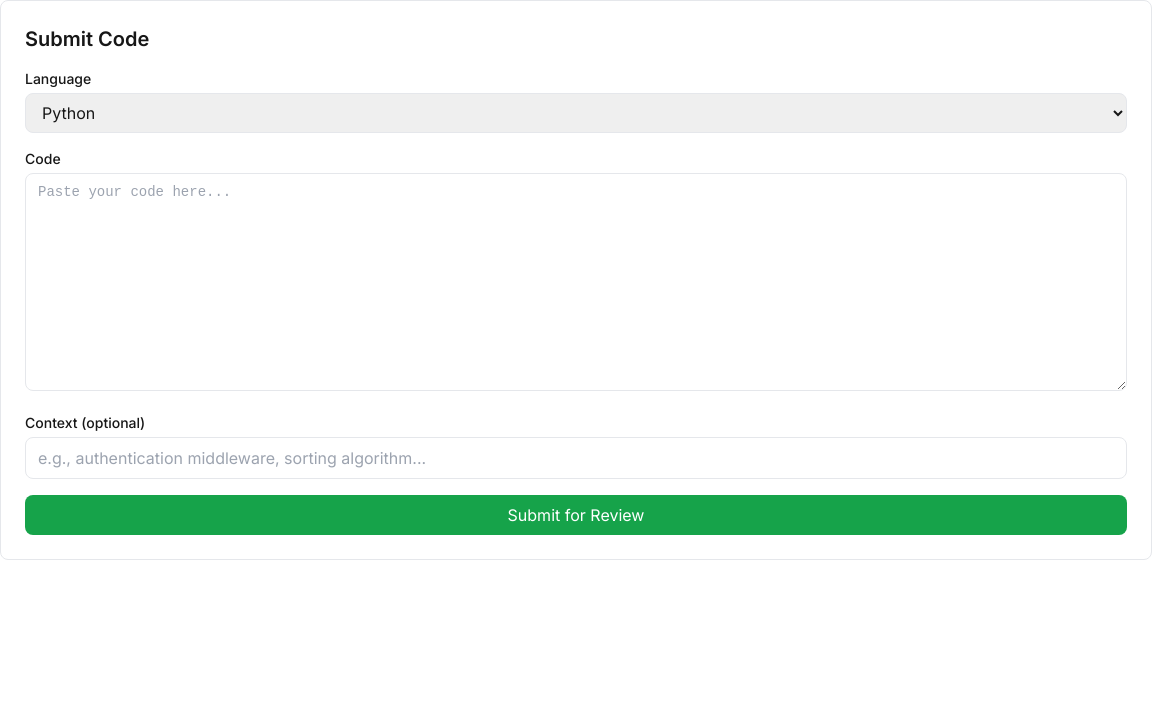
Test: SubmissionForm › shows typed error on failure
This screenshot has width=1152, height=720.
In the text box with placeholder "Paste your code here...": (576, 282) [25, 173, 1127, 391], type "x"
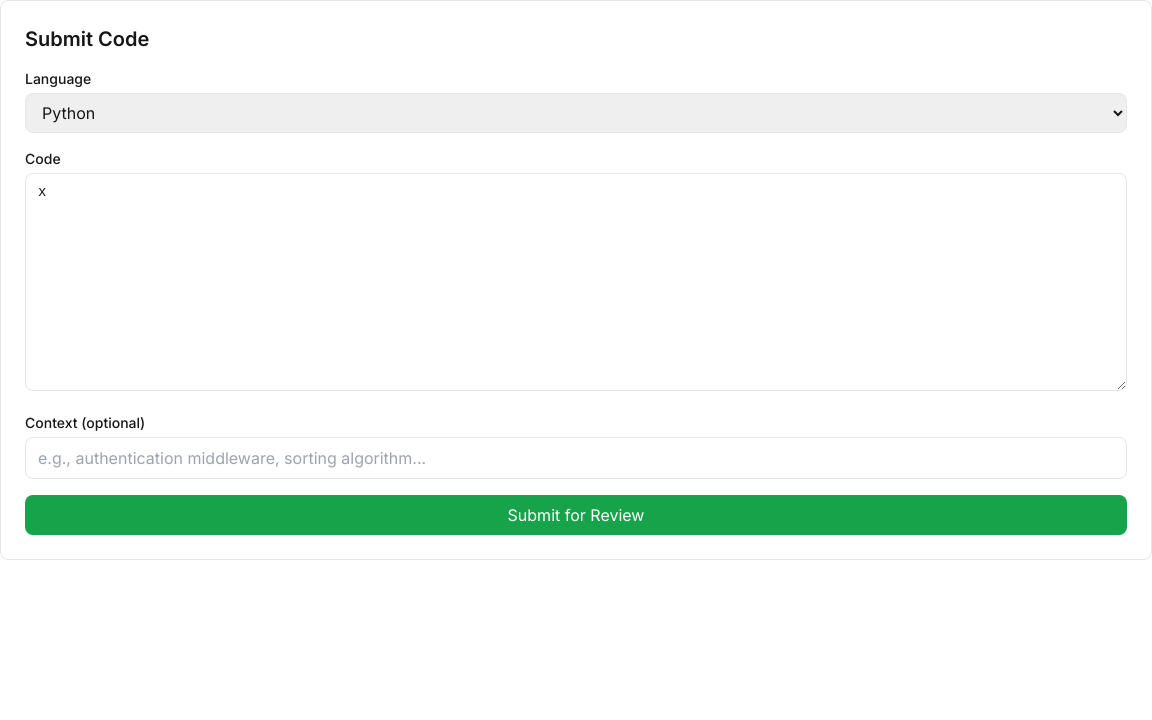
Click the button "Submit for Review": (576, 515) [25, 495, 1127, 535]
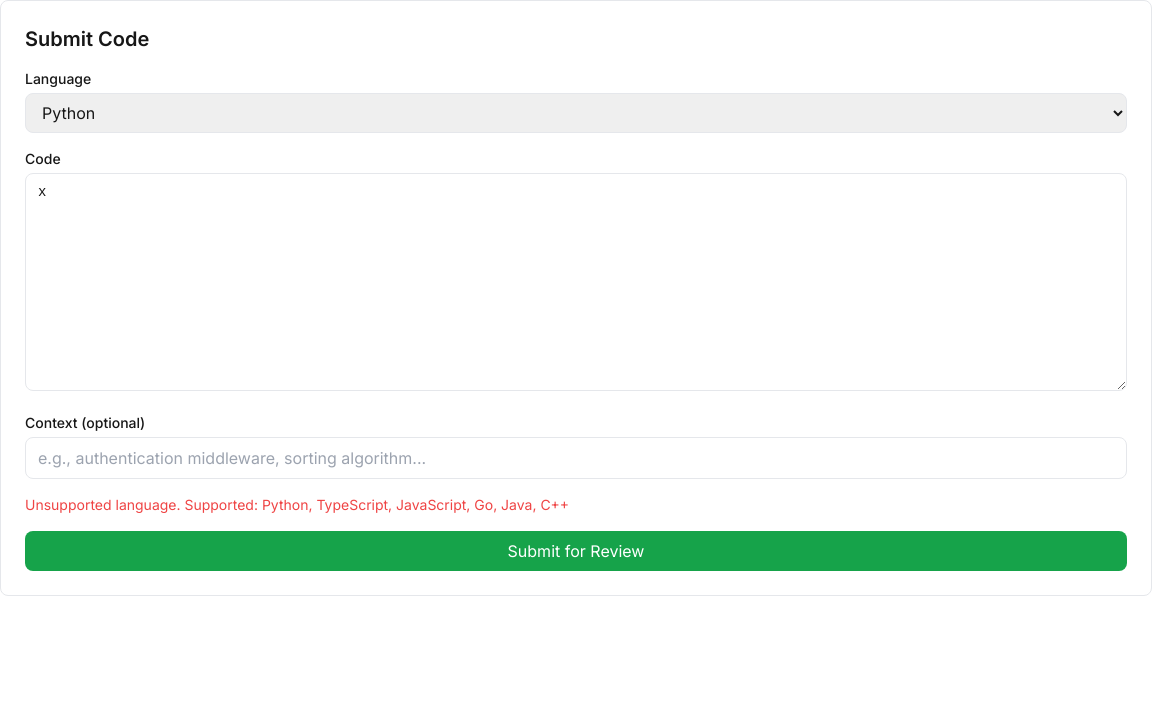
Now the text "Unsupported language" is shown, box [25, 496, 569, 513]
